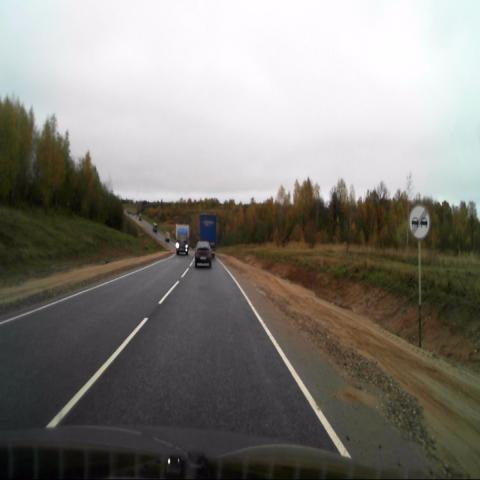3_21: (408, 205, 430, 241)
